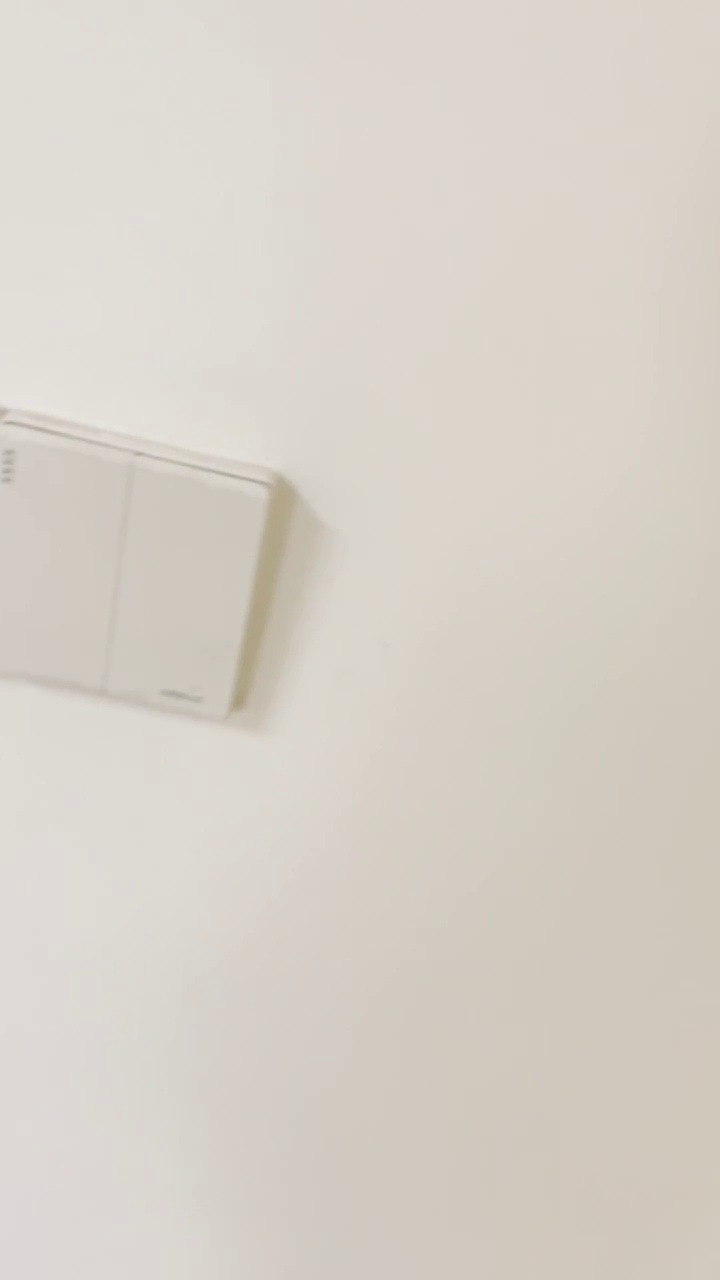button: (1, 409, 296, 719)
